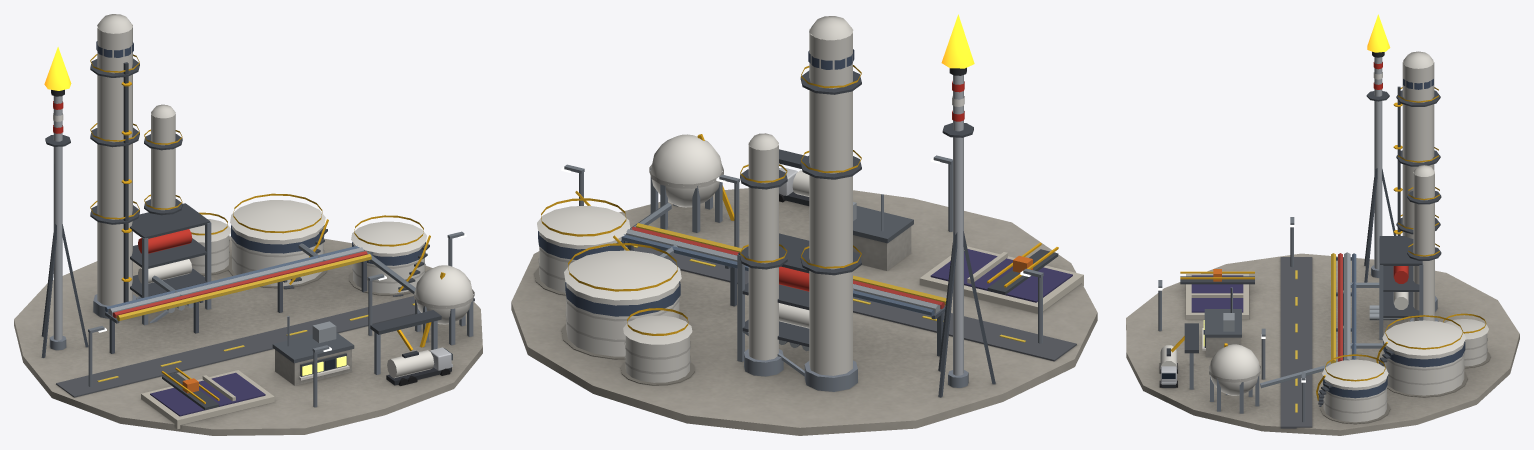
Rendered from oil_l3.glb.
3 renders of one model, left to right at view 1: azimuth 30°, elevation 25°; view 2: azimuth 150°, elevation 25°; view 3: azimuth 270°, elevation 25°, orthographic. The views are drawn at different scales.
Parts seen in each view (by area): view 1: oil_l3; view 2: oil_l3; view 3: oil_l3.
Boxes of the visible parts, x1,y1,x2,y2 form: oil_l3: [14, 14, 482, 435]; oil_l3: [511, 14, 1097, 435]; oil_l3: [1126, 14, 1519, 435].
Size of the model in its own units: 1.46 by 1.02 by 1.37.
6 materials, 1 textured.
